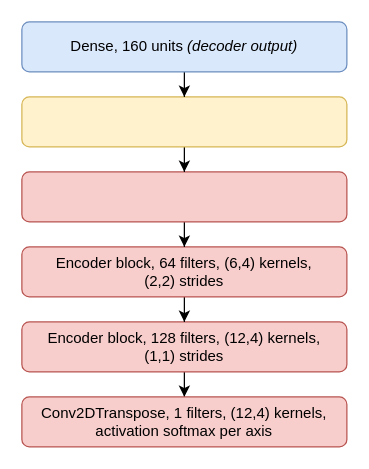
Some shapes in this 369 by 469 pixel diagram are drawn without their labels. Here are the shapes that lost their labels. From the top down, the centre of each, then its label:
(x=184, y=121): Reshape to (125, 32)
(x=184, y=196): Encoder block, 32 filters, (3,2) kernels, (2,2) strides
